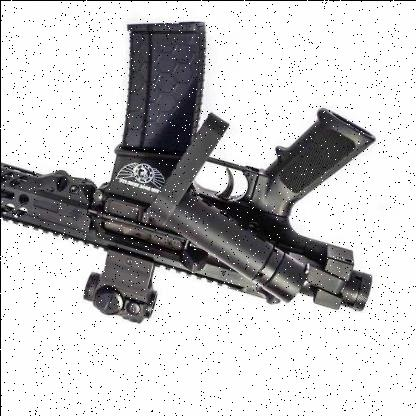rifle: (0, 0, 384, 325)
